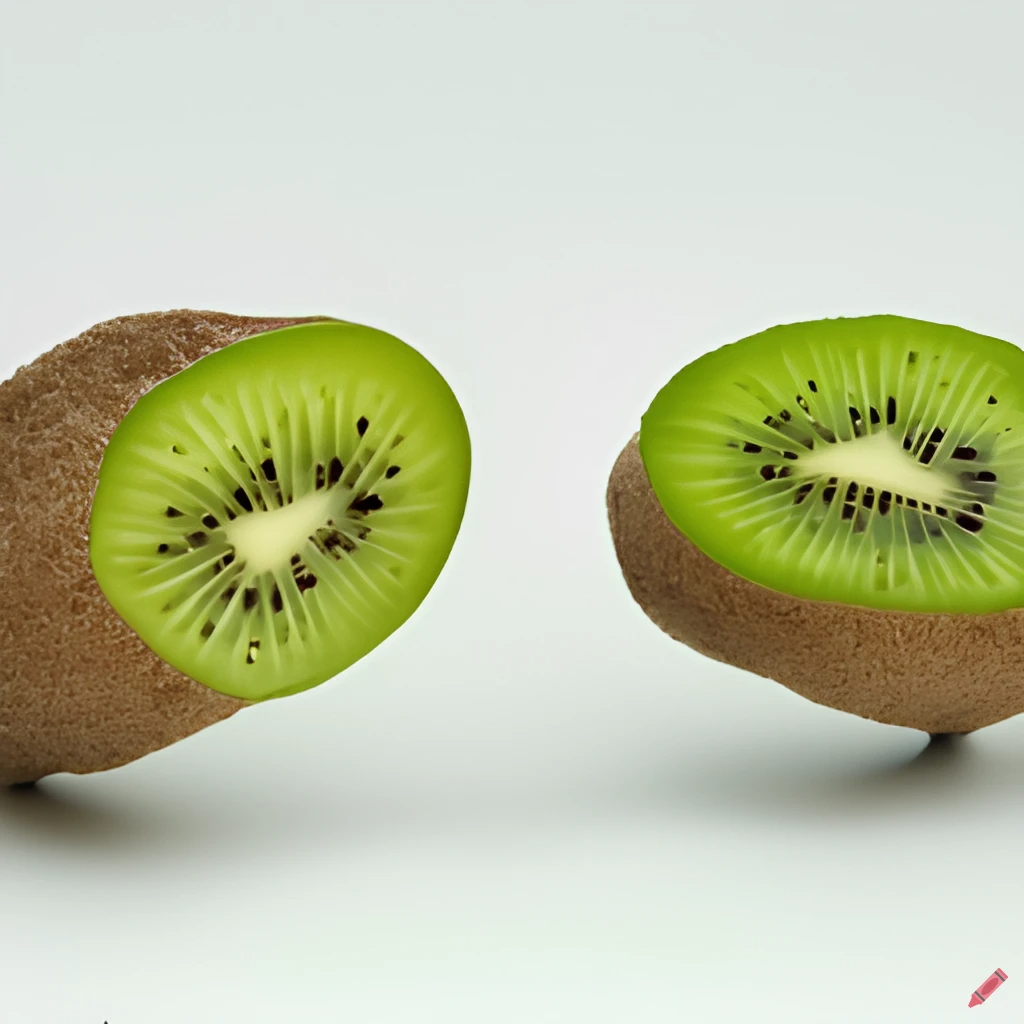Kiwi: (577, 272, 1020, 788)
